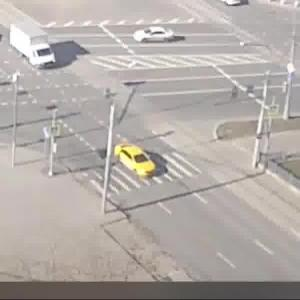car: (9, 23, 57, 71), (115, 144, 159, 183), (127, 28, 178, 45)
